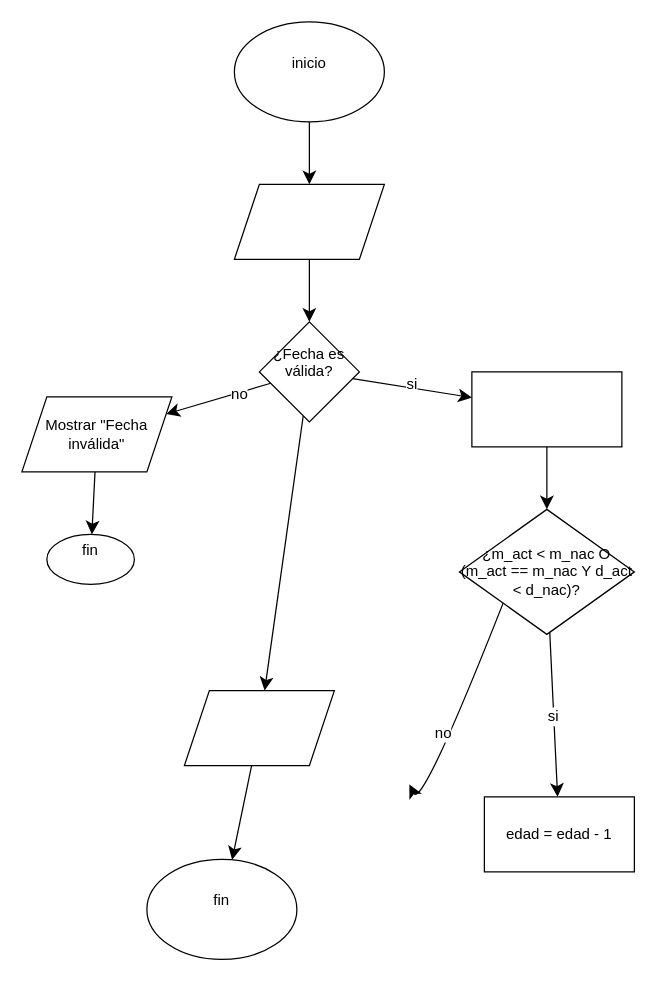
Some shapes in this 656 by 981 pixel diagram are drawn without their labels. Each missing label, with the centre of its shape:
edad = a_act - a_nac: point 546,409
Ingresar d_nac, m_nac, a_nac, d_act, m_act, a_act: point 308,221
Mostrar edad: point 258,727
